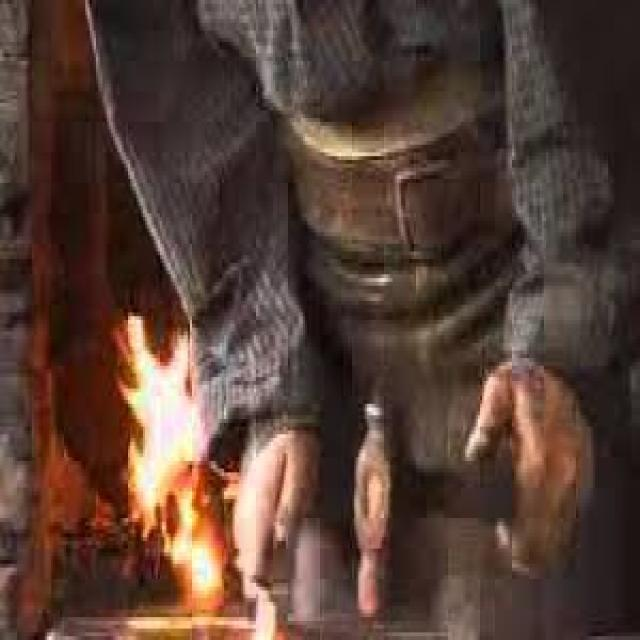hammer: (348, 388, 616, 618)
